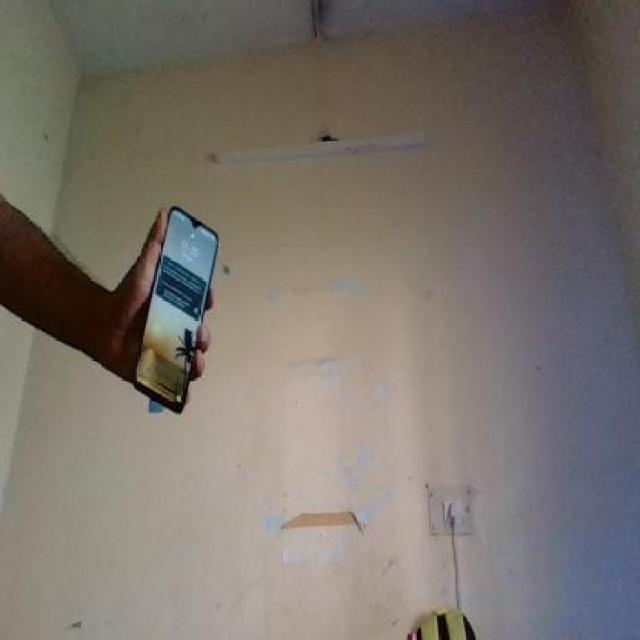Phone: (124, 201, 223, 418)
